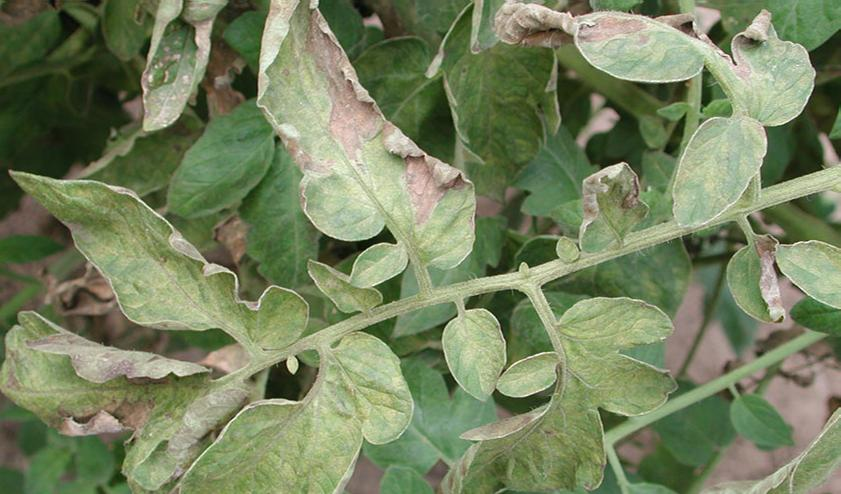Tomato mold leaf: (252, 0, 482, 271), (7, 163, 314, 352), (159, 323, 417, 494), (498, 0, 827, 116), (661, 112, 777, 236), (439, 302, 521, 402), (572, 158, 650, 258), (772, 240, 841, 319), (492, 347, 578, 401)
